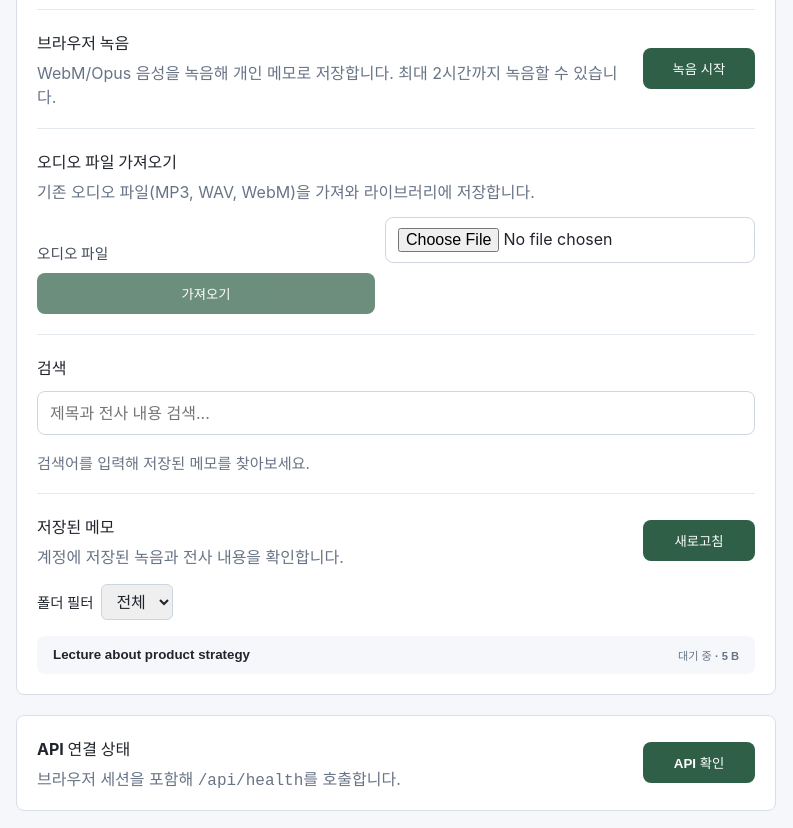
Scenario: App transcription polling › shows a safe transcription failure reason when transcription fails
(page scrolled)
Step 1. Click the button "Lecture about product strategy 대기 중 · 5 B" → click(152, 655), box 37,636 -> 755,674
(page scrolled)
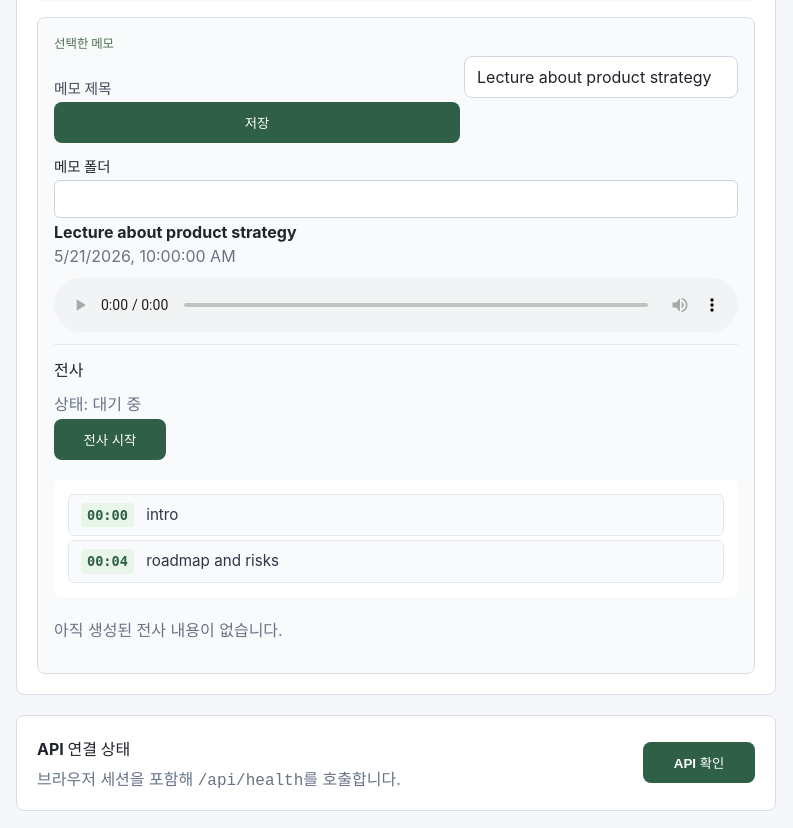
Expected: the text "아직 생성된 전사 내용이 없습니다." is shown, 54,620 -> 283,640
Step 2. Click the button "전사 시작" → click(110, 439), box 54,419 -> 166,460
(page scrolled)
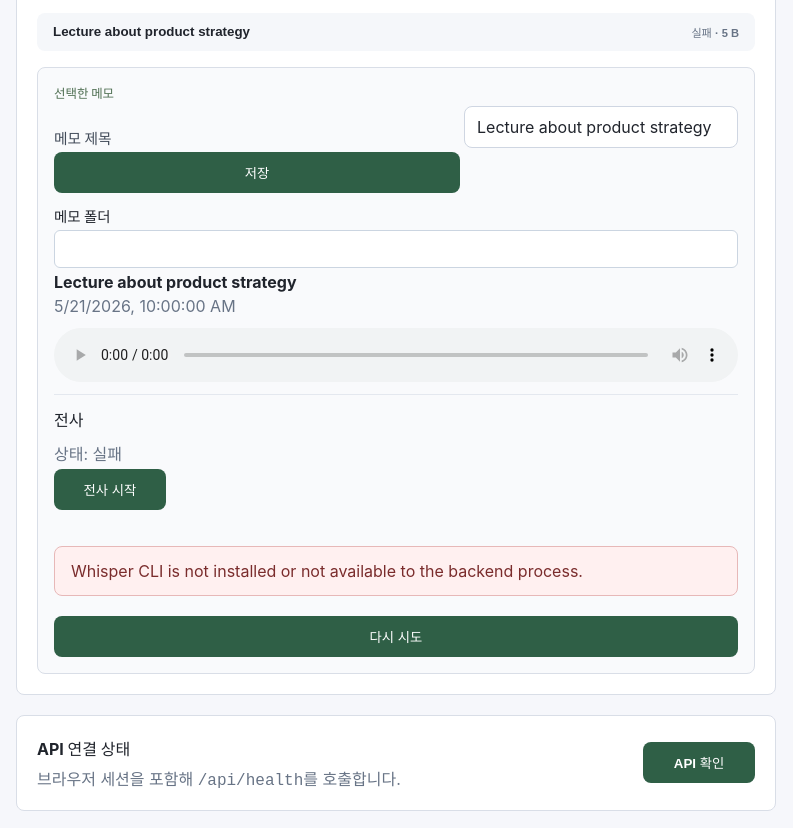
Expected: the text "Whisper CLI is not installed or not available to the backend process." is shown, 54,546 -> 738,596
